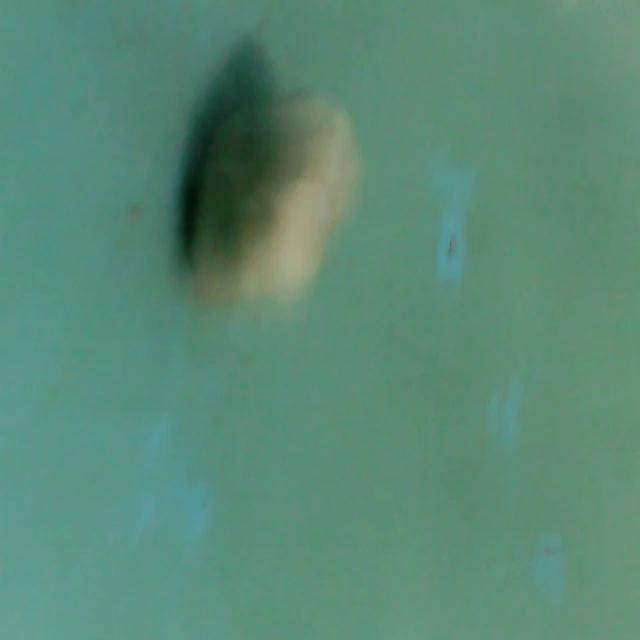rock: (182, 71, 361, 310)
